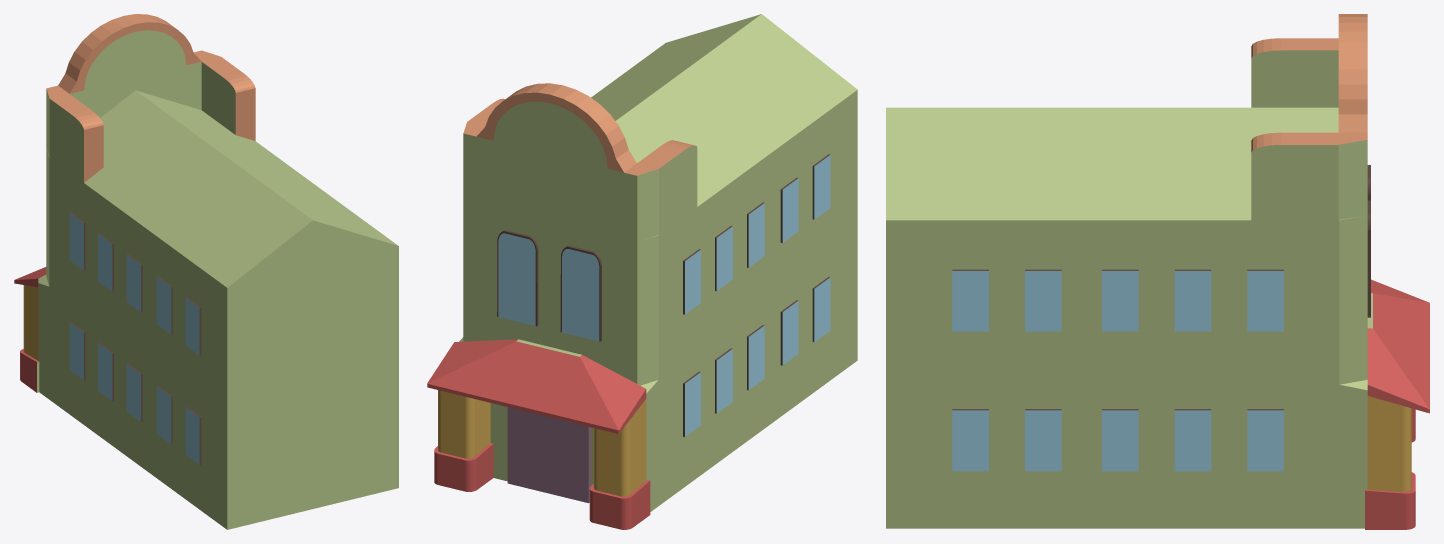
Rendered from edifci_1.fbx.
3 renders of one model, left to right at view 1: azimuth 30°, elevation 25°; view 2: azimuth 150°, elevation 25°; view 3: azimuth 270°, elevation 25°, orthographic. The views are drawn at different scales.
Parts seen in each view (by area): view 1: Cube.049, Cube.057, Cylinder.034, Cube.050, Cube.059, Cube.060, Cube.061, Cube.062, Cube.069, Cube.070, Cube.071, Cube.072 (+3 smaller); view 2: Cube.049, Cube.054, Cube.057, Cylinder.034, Cube.052, Cube.050, Cylinder.031, Cylinder.032, Cube.051, Cube.055, Cube.056, Cube.062 (+9 smaller); view 3: Cube.049, Cube.057, Cube.054, Cube.051, Cylinder.034, Cube.063, Cube.073, Cube.064, Cube.065, Cube.066, Cube.067, Cube.074 (+4 smaller).
Boxes of the visible parts, box(x1,y1,x2,y2) form: Cube.049: box(38, 90, 398, 529); Cube.057: box(46, 50, 255, 182); Cylinder.034: box(58, 14, 201, 93); Cube.050: box(23, 285, 38, 360); Cube.059: box(126, 254, 142, 312); Cube.060: box(69, 212, 85, 270); Cube.061: box(185, 297, 201, 355); Cube.062: box(156, 276, 172, 334); Cube.069: box(126, 363, 142, 421); Cube.070: box(69, 322, 85, 380); Cube.071: box(185, 406, 201, 464); Cube.072: box(156, 385, 172, 444); Cube.049: box(459, 14, 857, 511); Cube.054: box(427, 339, 646, 433); Cube.057: box(463, 98, 697, 241); Cylinder.034: box(477, 83, 636, 172); Cube.052: box(507, 407, 590, 503); Cube.050: box(593, 399, 646, 496); Cylinder.031: box(497, 230, 538, 326); Cylinder.032: box(560, 245, 601, 341); Cube.051: box(438, 390, 490, 458); Cube.055: box(589, 480, 650, 529); Cube.056: box(434, 443, 493, 491); Cube.062: box(780, 177, 798, 242); Cube.049: box(886, 107, 1367, 528); Cube.057: box(1251, 38, 1367, 220); Cube.054: box(1367, 279, 1429, 413); Cube.051: box(1367, 396, 1411, 491); Cylinder.034: box(1338, 14, 1367, 132); Cube.063: box(1174, 269, 1211, 331); Cube.073: box(1174, 409, 1211, 471); Cube.064: box(1102, 269, 1138, 331); Cube.065: box(1247, 269, 1283, 331); Cube.066: box(952, 269, 988, 331); Cube.067: box(1025, 269, 1061, 331); Cube.074: box(1102, 409, 1138, 471).
Bounding box in the file's own units: 393 × 756 × 824.
